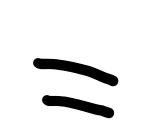eqv: (32, 56, 119, 120)
